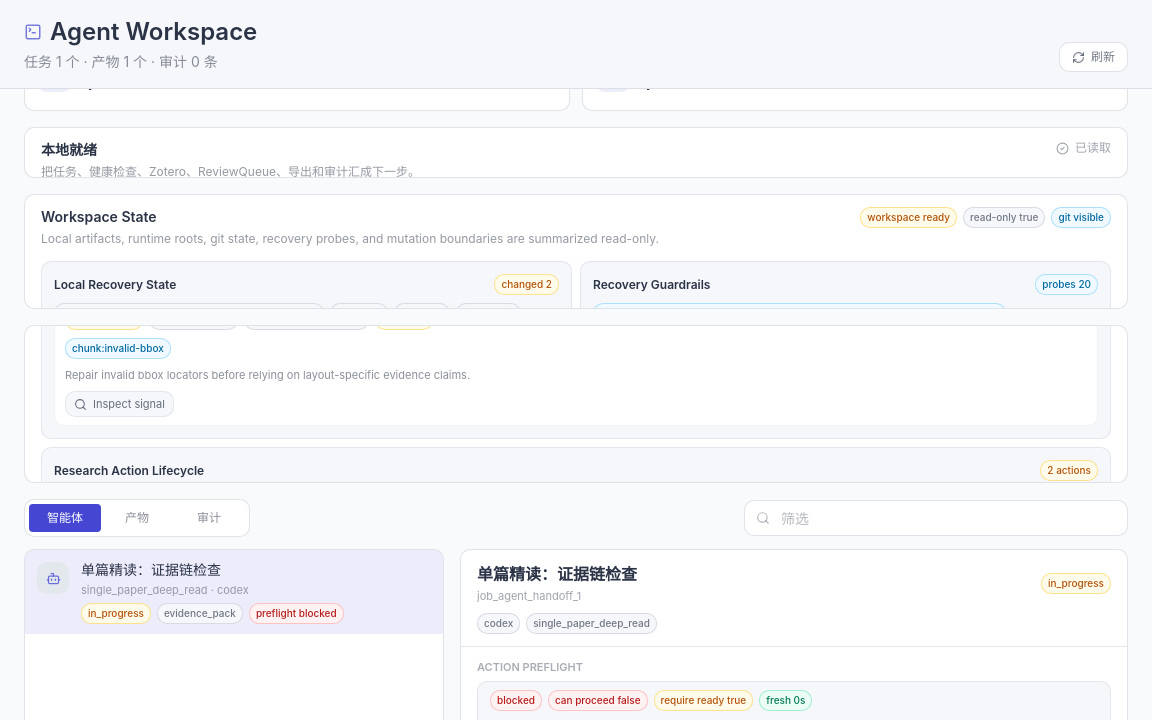
Test case: AgentWorkspace › renders workflow passport, integrity gate, handoff card, and behavior eval visibility
This screenshot has width=1152, height=720.
(page scrolled)
expect the element named "研究流程主干" is shown: met, box [24, 324, 1128, 483]
expect the heading "Research Action Lifecycle" is shown: met, box [54, 462, 204, 478]
Click the button with aria-label "Inspect locator signal locator:runtime_payload:invalid-bbox". click: x=120, y=404
box: [65, 391, 174, 417]
(page scrolled)
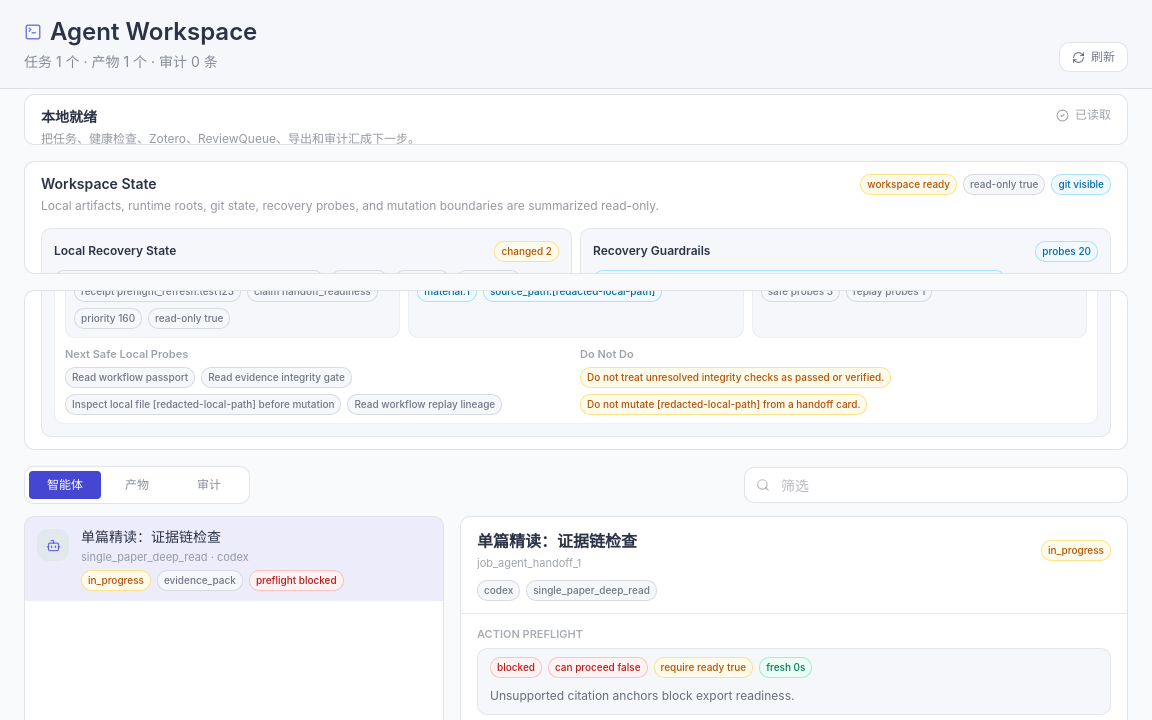
expect the button "Inspect signal" is gone: met
expect the text "priority 160" is shown: met, box [81, 311, 135, 326]
expect the text "Read workflow passport" is shown: met, box [72, 370, 188, 385]
